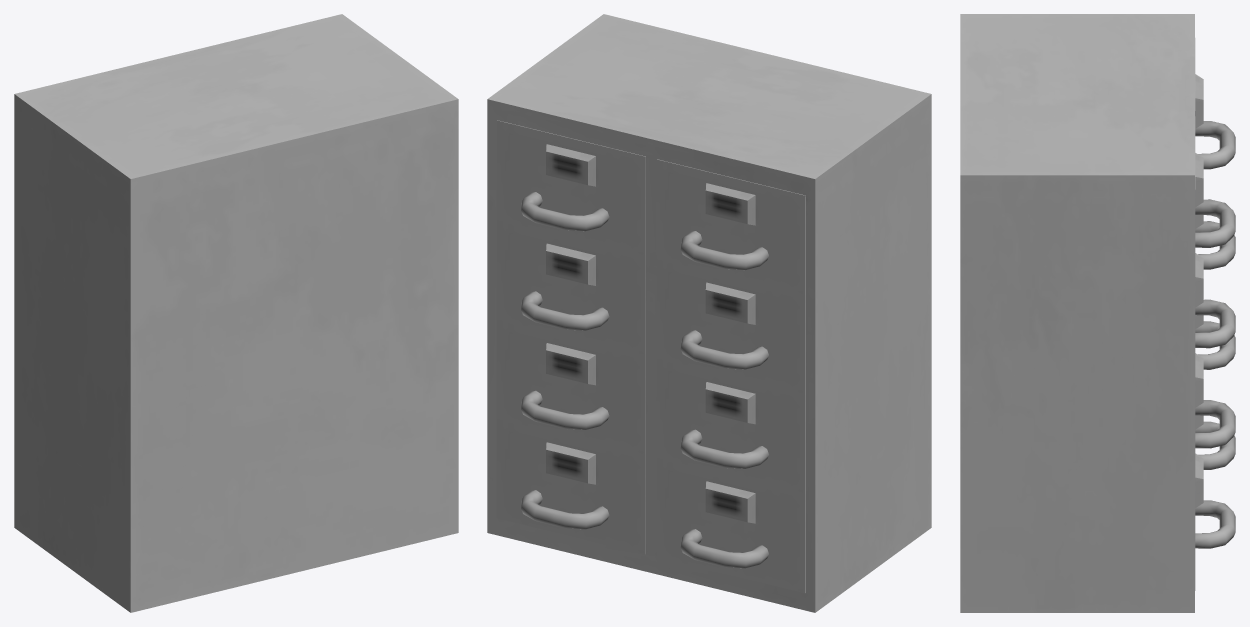
File: Pfb_FileCabient_L2.fbx
The picture shows the model from 3 angles, left to right: view 1: azimuth 30°, elevation 25°; view 2: azimuth 150°, elevation 25°; view 3: azimuth 270°, elevation 25°; orthographic projection.
Visible parts, largest first — view 1: Mat_FileCabient 2; view 2: Mat_FileCabient 2; view 3: Mat_FileCabient 2.
Boxes of the visible parts, x1,y1,x2,y2 form: Mat_FileCabient 2: (14, 14, 458, 612); Mat_FileCabient 2: (487, 14, 931, 612); Mat_FileCabient 2: (960, 14, 1235, 612).
Size of the model in its own units: 1.25 by 1.58 by 0.9021.
1 material, 1 textured.
